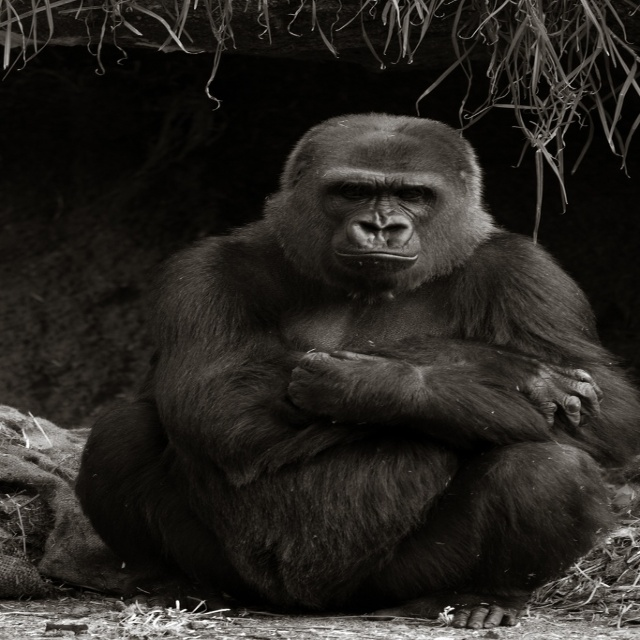Monkey: (62, 100, 640, 640)
